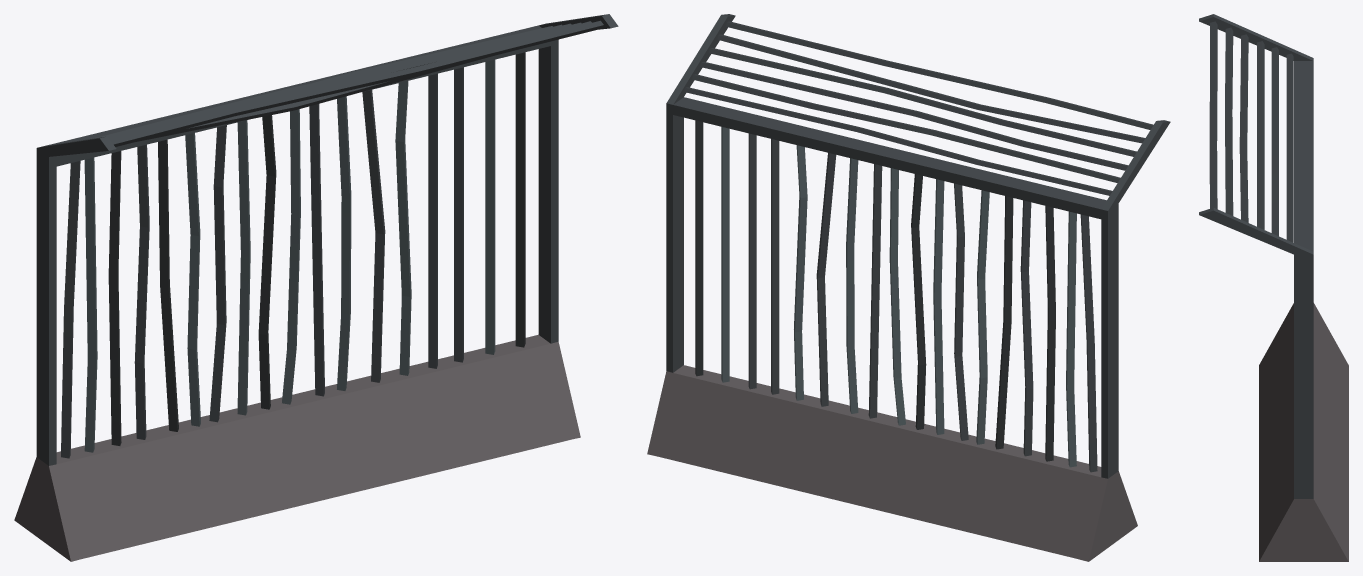
The model's file is SM_Metal_Fence_01.glb.
3 views of the same model, side by side, from view 1: azimuth 30°, elevation 25°; view 2: azimuth 150°, elevation 25°; view 3: azimuth 270°, elevation 25° (orthographic). The views are drawn at different scales.
Visible parts, largest first — view 1: SM_Metal_Fence_01; view 2: SM_Metal_Fence_01; view 3: SM_Metal_Fence_01.
Boxes of the visible parts, <box> form: SM_Metal_Fence_01: <box>14,14,618,561</box>; SM_Metal_Fence_01: <box>647,14,1170,561</box>; SM_Metal_Fence_01: <box>1199,14,1348,561</box>.
Bounding box in the file's own units: 6 × 5 × 1.93.
Materials: 1 (1 with a texture image).
